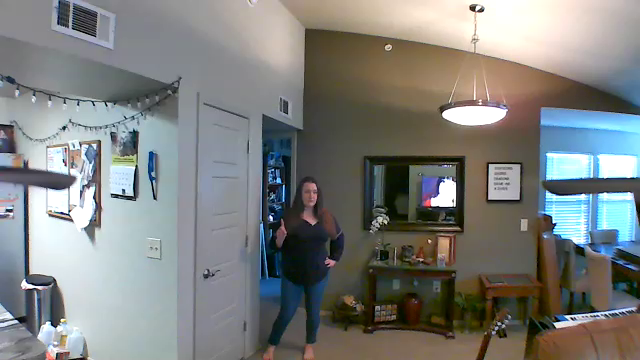up: (274, 218, 291, 239)
